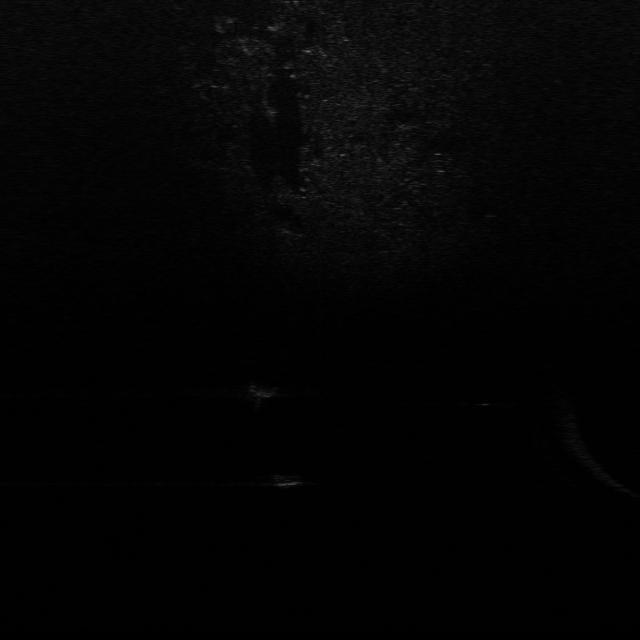cube: (267, 470, 304, 490)
square cage: (243, 379, 282, 401)
